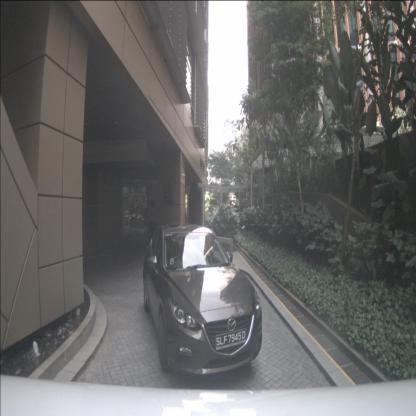vehicle-car: (144, 224, 262, 376), (120, 211, 133, 221), (130, 213, 138, 225), (136, 214, 145, 224)
